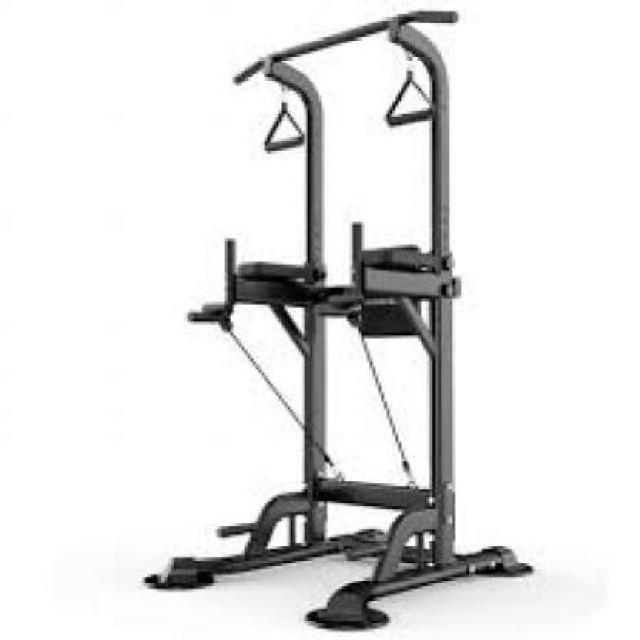chinning dipping: (145, 8, 532, 630)
